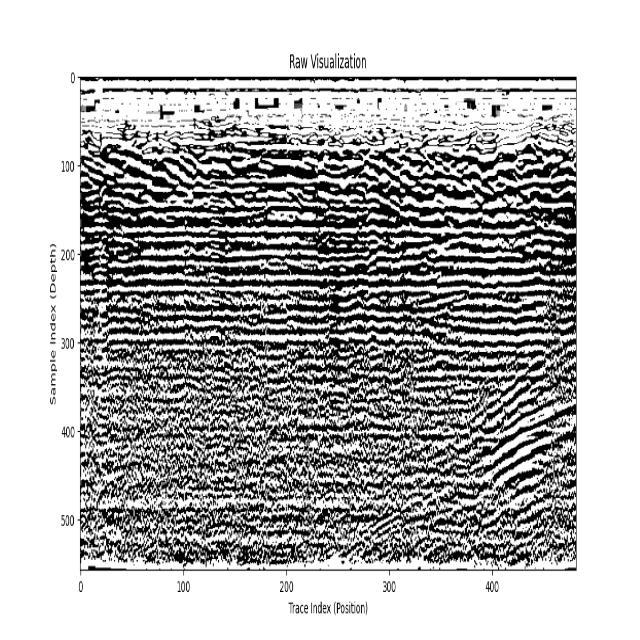anomaly: (338, 316, 571, 554)
